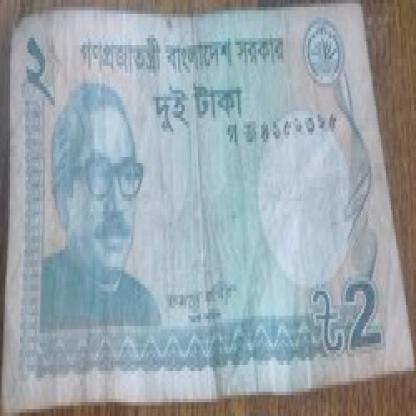two taka: (148, 90, 245, 139), (20, 31, 62, 114), (339, 274, 383, 350)
